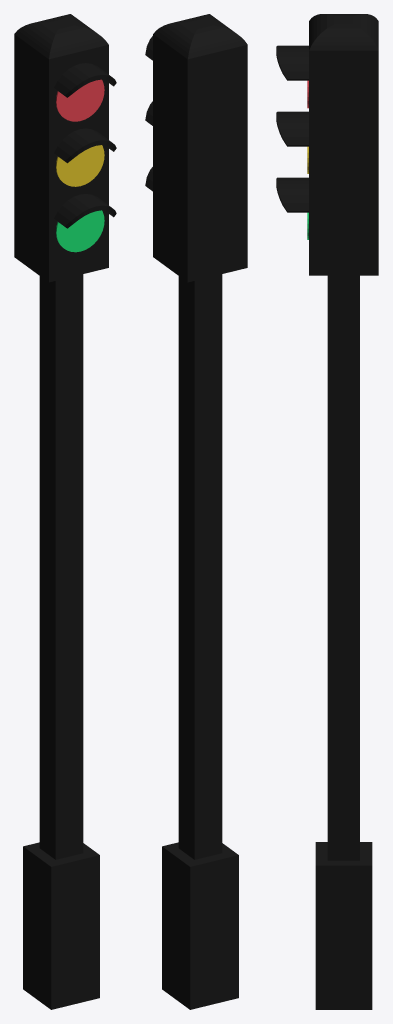
File: Ampel.fbx
3 renders of one model, left to right at view 1: azimuth 30°, elevation 25°; view 2: azimuth 210°, elevation 25°; view 3: azimuth 270°, elevation 25°, orthographic.
Visible parts, largest first — view 1: Cube.005, Cylinder.005, Cylinder.003, Cylinder.004, Cylinder.006, Cylinder.007, Cylinder.008; view 2: Cube.005; view 3: Cube.005, Cylinder.006, Cylinder.007, Cylinder.008.
Boxes of the visible parts, <box> form: Cube.005: <box>14,14,108,1009</box>; Cylinder.005: <box>56,79,104,121</box>; Cylinder.003: <box>56,210,104,252</box>; Cylinder.004: <box>56,145,104,186</box>; Cylinder.006: <box>54,63,116,97</box>; Cylinder.007: <box>54,128,116,163</box>; Cylinder.008: <box>54,194,116,228</box>; Cube.005: <box>153,14,247,1009</box>; Cube.005: <box>309,14,378,1009</box>; Cylinder.006: <box>276,45,308,80</box>; Cylinder.007: <box>276,111,308,146</box>; Cylinder.008: <box>276,177,308,212</box>.
Bounding box in the file's own units: 52.65 × 814 × 77.36.
